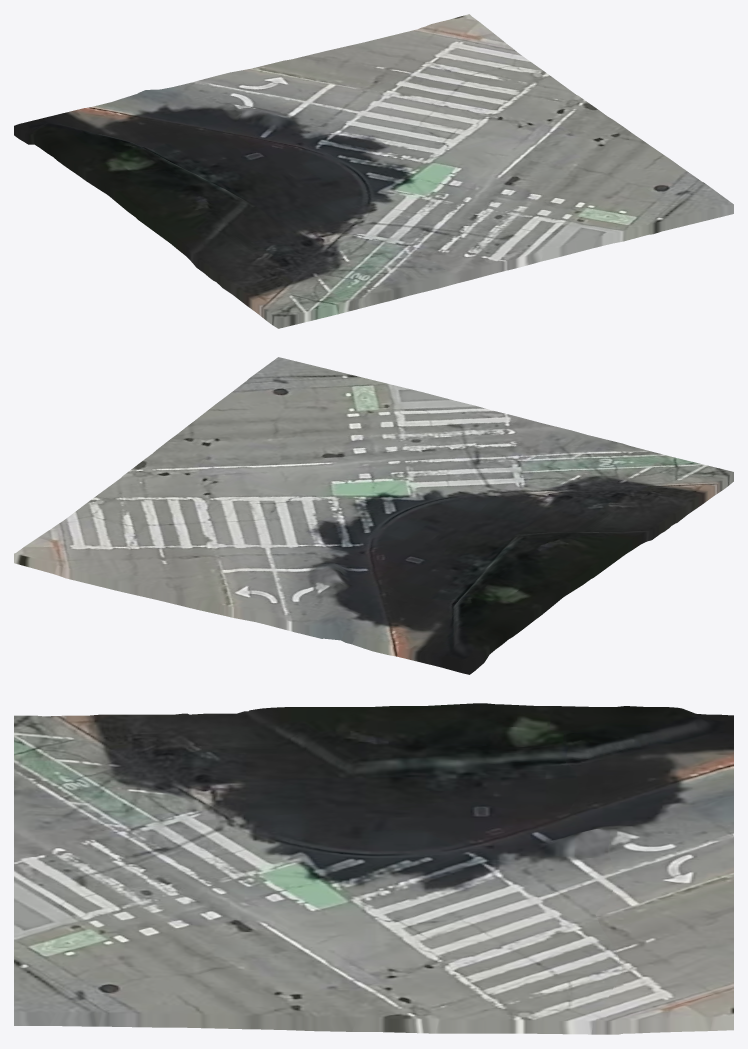
File: z20-167778-405207-h0-yup-uvflip-v3-world.glb
3 renders of one model, top to bottom at view 1: azimuth 30°, elevation 25°; view 2: azimuth 150°, elevation 25°; view 3: azimuth 270°, elevation 25°, orthographic. The views are drawn at different scales.
Size of the model in its own units: 30.16 by 1.36 by 30.32.
Materials: 1 (1 with a texture image).
